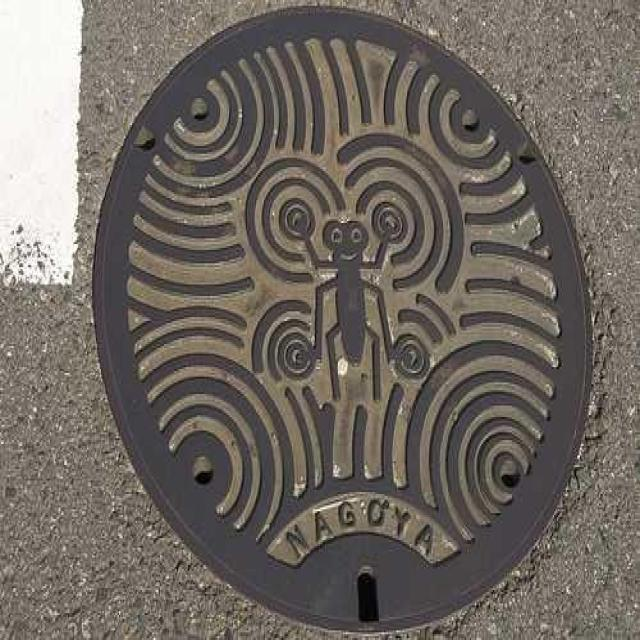manhole: (93, 9, 591, 631)
